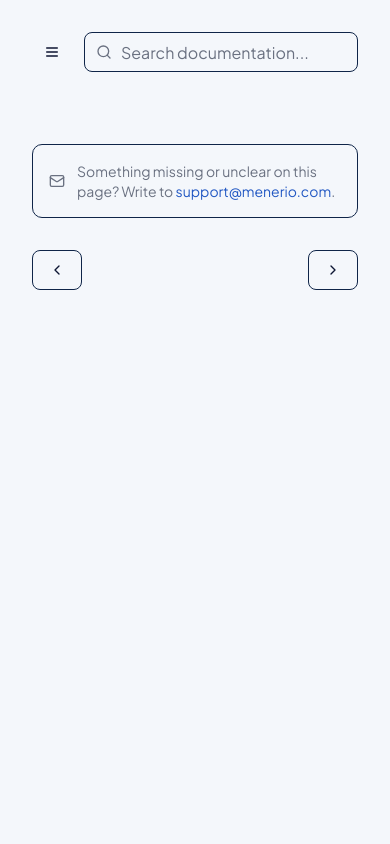
Scenario: Docs › gives the open phone menu its own close button
Click the button named "Open navigation" at [52, 52], box [32,32,72,72]
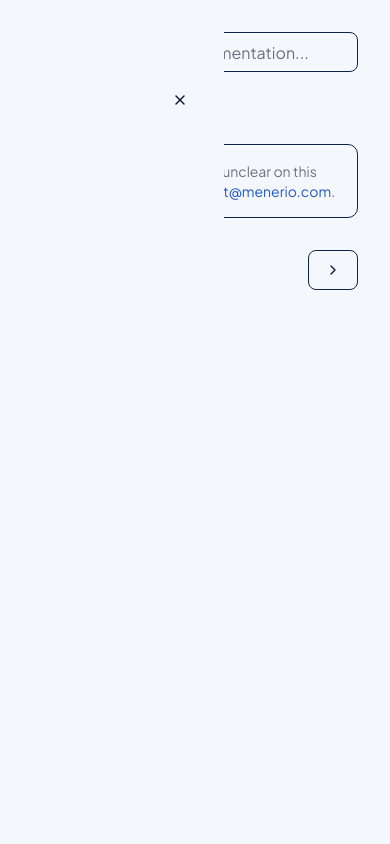
Click the button named "Close navigation" at [180, 100], box [160,80,200,120]
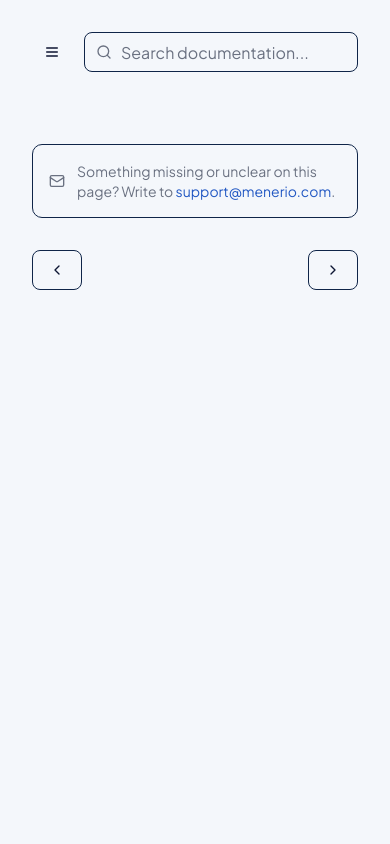
Check: the button named "Open navigation" is shown, box [32,32,72,72]
